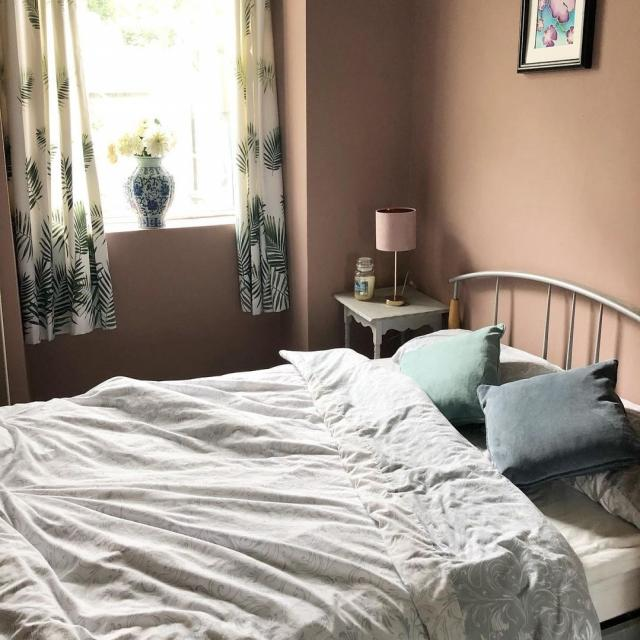bed: (0, 325, 619, 640)
